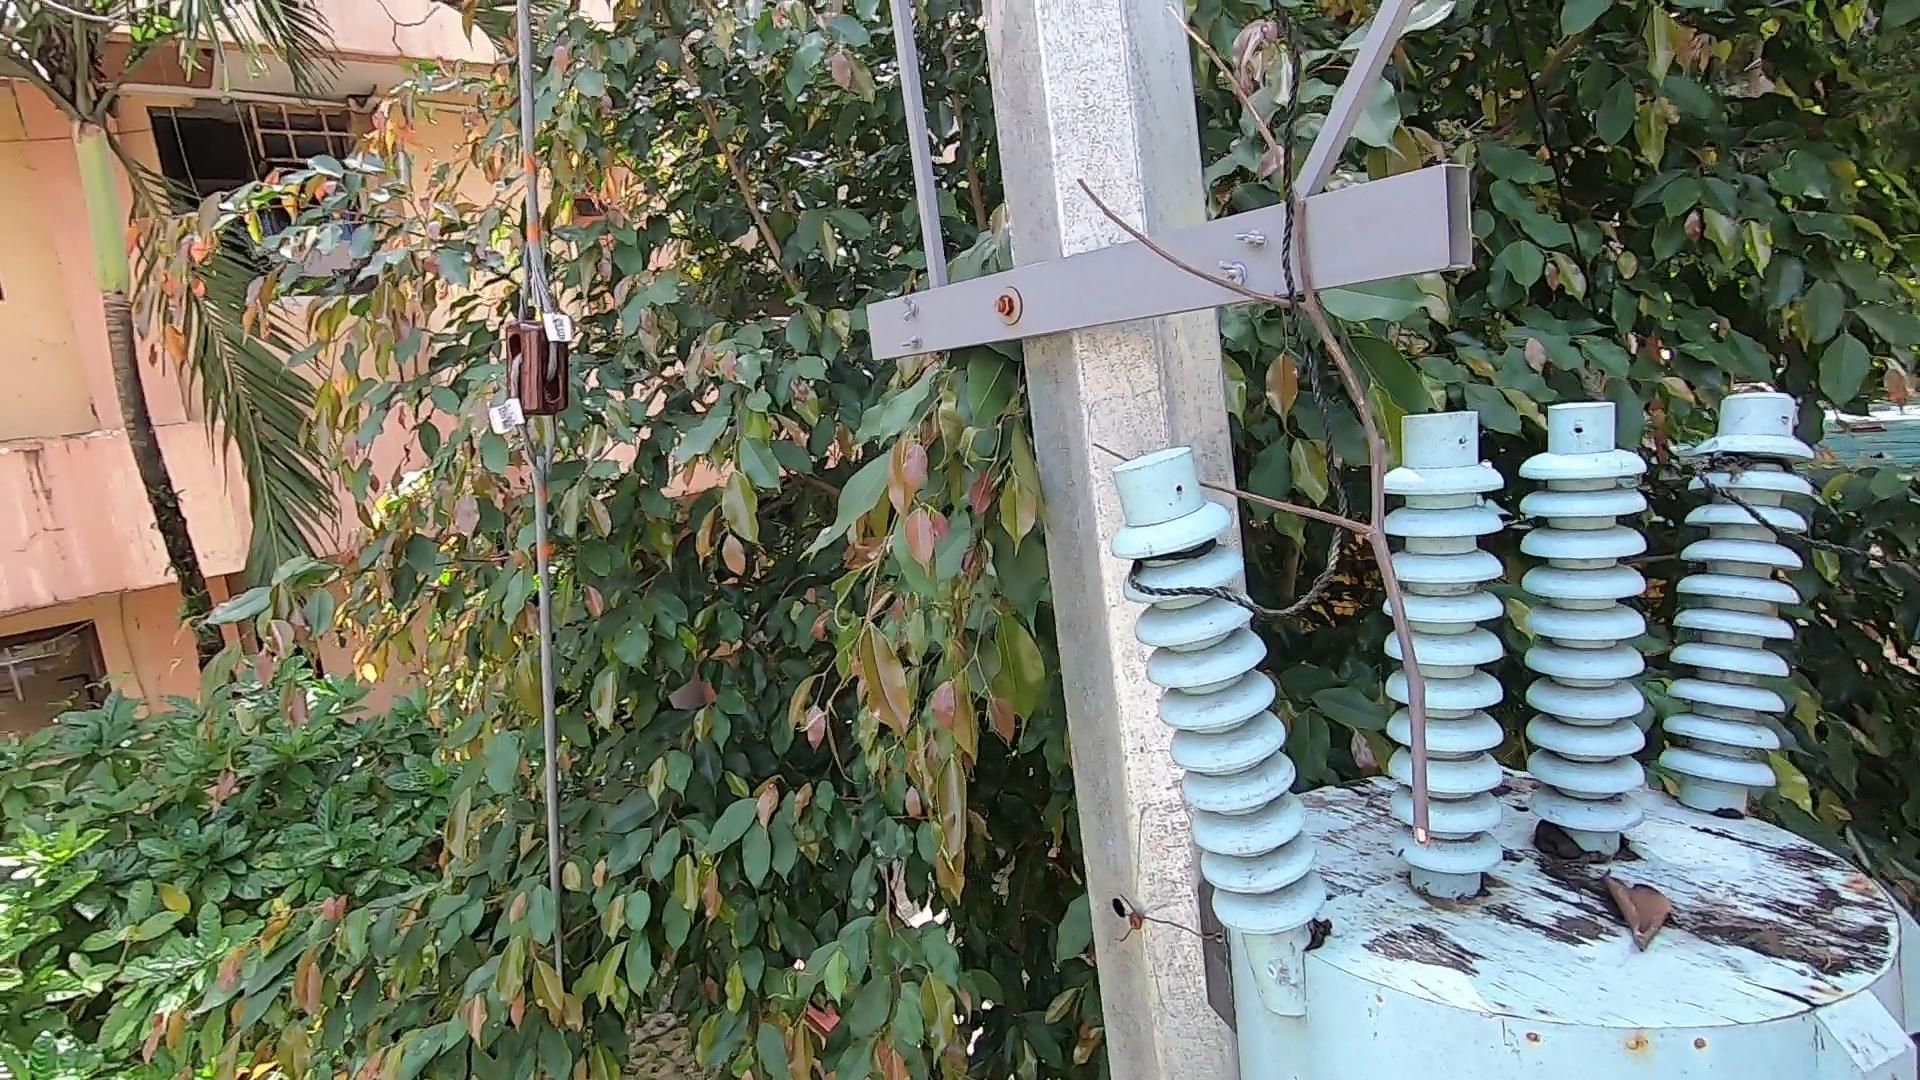leaf: (1597, 860, 1677, 963), (1524, 827, 1581, 877), (1294, 902, 1342, 955)
tree branch: (1011, 12, 1472, 844)
